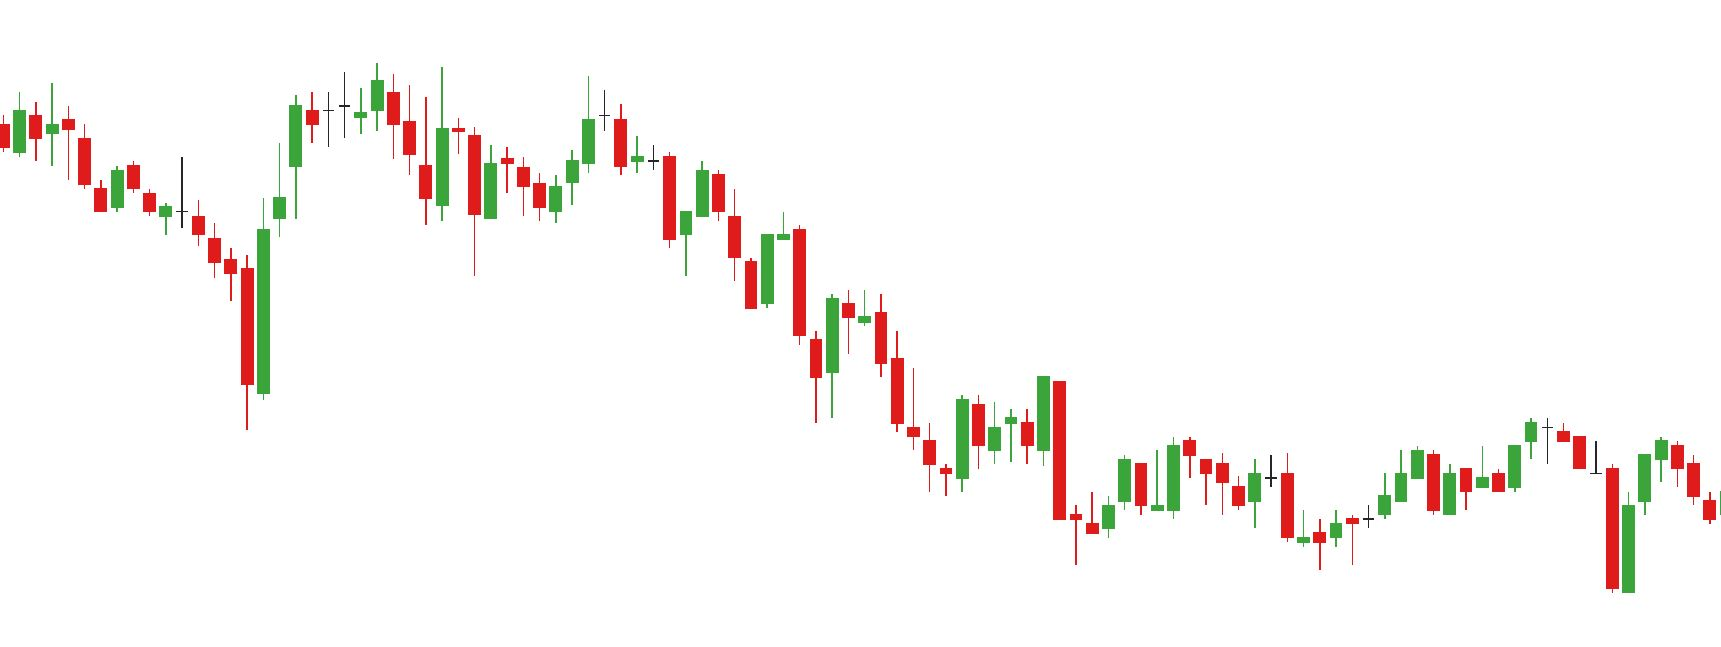buy: (1313, 483, 1639, 599)
